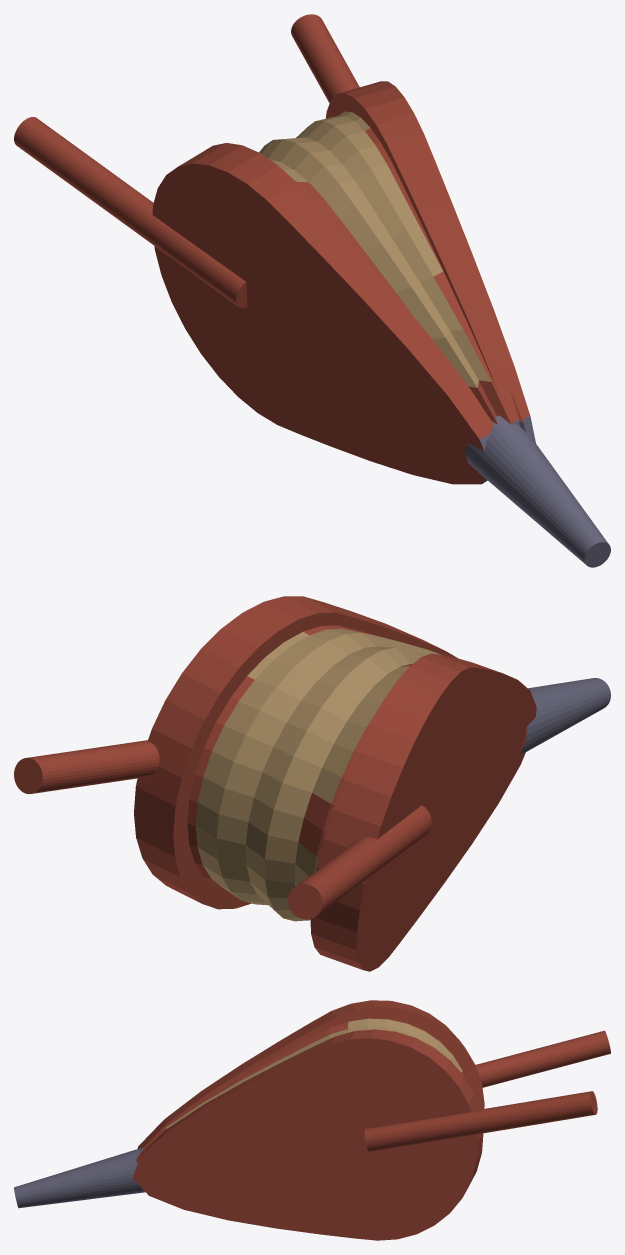
Rendered from Bellows.fbx.
The picture shows the model from 3 angles, top to bottom: view 1: azimuth 30°, elevation 25°; view 2: azimuth 150°, elevation 25°; view 3: azimuth 270°, elevation 25°; orthographic projection. The views are drawn at different scales.
Visible parts, largest first — view 1: Cylinder.001; view 2: Cylinder.001; view 3: Cylinder.001.
Part boxes in pixels (box(x1,y1,x2,y2)): Cylinder.001: box(14, 14, 610, 567); Cylinder.001: box(14, 596, 610, 971); Cylinder.001: box(14, 1000, 610, 1240).
Size of the model in its own units: 547 by 525 by 1348.
